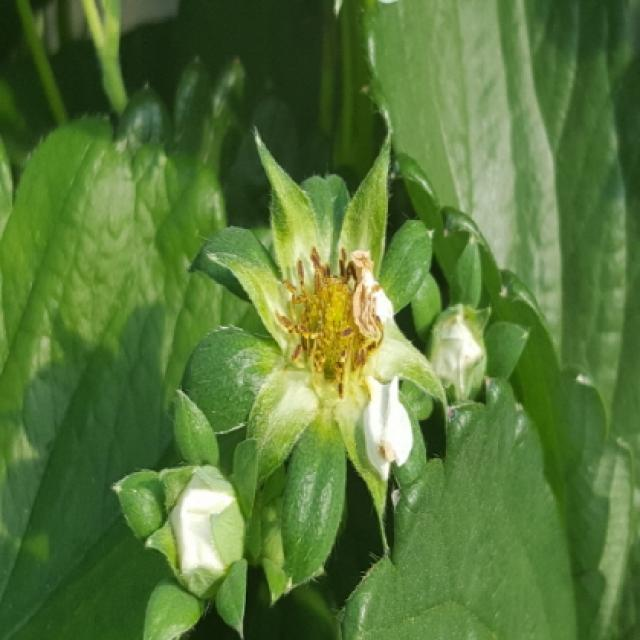Blossom Blight: (271, 245, 385, 400)
